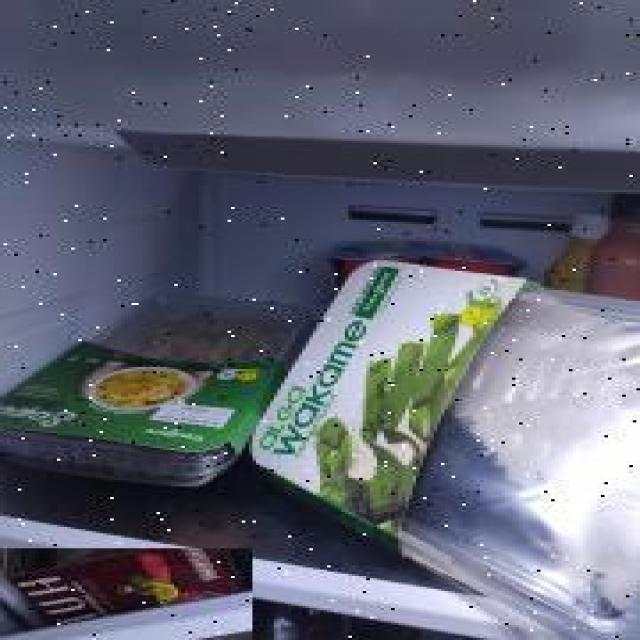humus: (0, 548, 252, 639)
